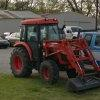Tractor: (6, 9, 100, 91)
